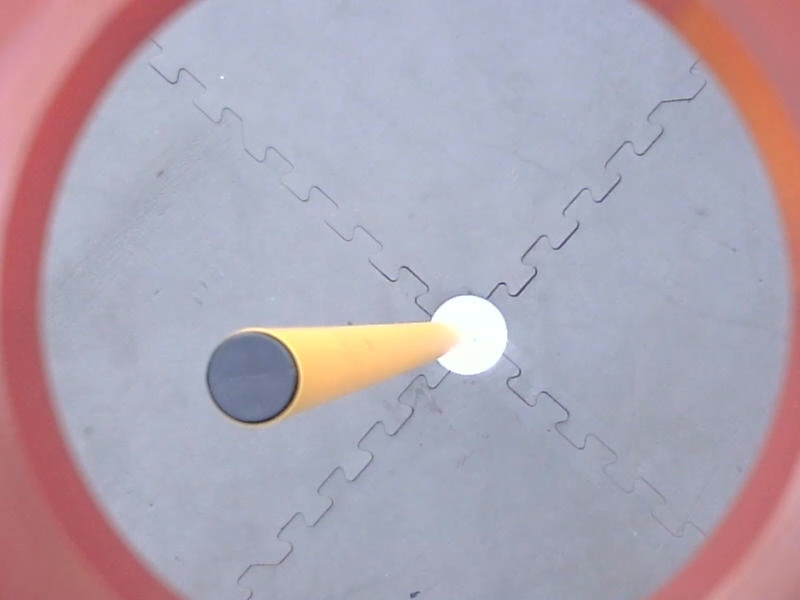tip: (200, 324, 306, 433)
